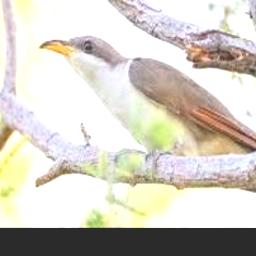Cuckoo: (39, 36, 256, 169)
